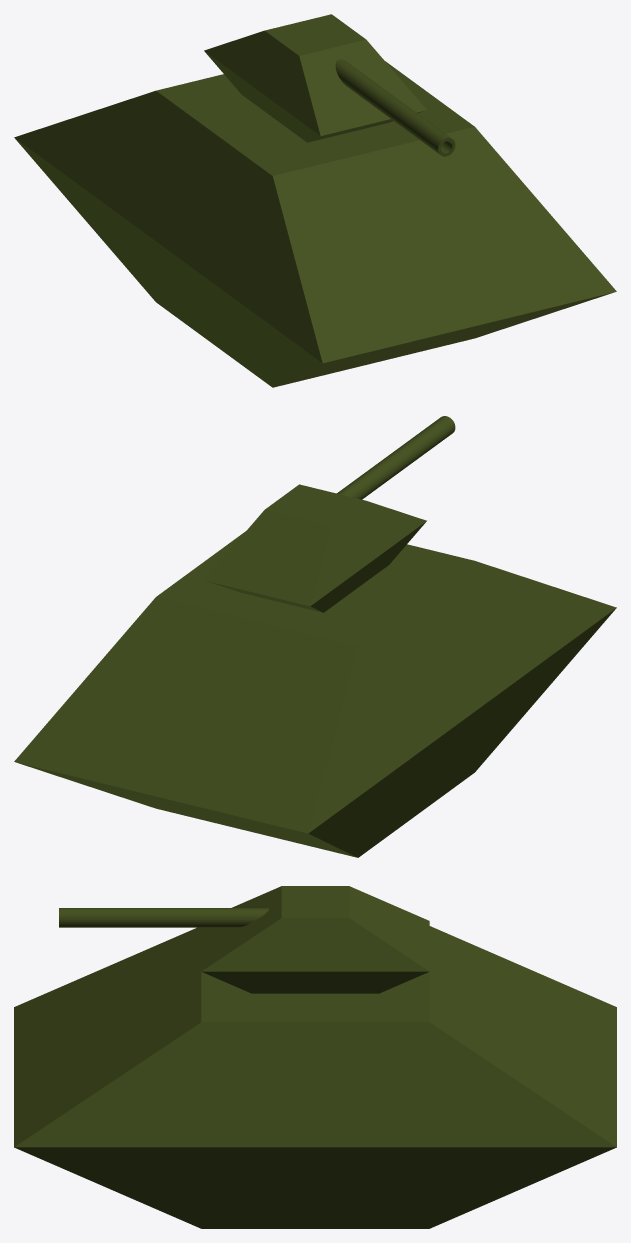
File: tank4.glb
3 renders of one model, top to bottom at view 1: azimuth 30°, elevation 25°; view 2: azimuth 150°, elevation 25°; view 3: azimuth 270°, elevation 25°, orthographic. The views are drawn at different scales.
Parts seen in each view (by area): view 1: Tank, Gun; view 2: Tank, Gun; view 3: Tank, Gun.
Part boxes in pixels (box(x1,y1,x2,y2)): Tank: box(14, 14, 616, 387); Gun: box(335, 59, 455, 156); Tank: box(14, 484, 616, 857); Gun: box(337, 416, 455, 499); Tank: box(14, 886, 616, 1228); Gun: box(59, 908, 268, 927).
Size of the model in its own units: 2.91 by 2.7 by 5.29.
